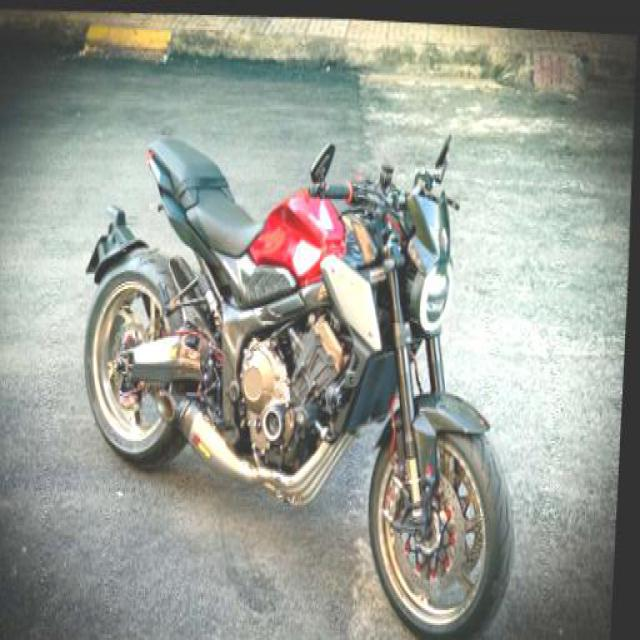CB650R: (71, 118, 540, 638)
